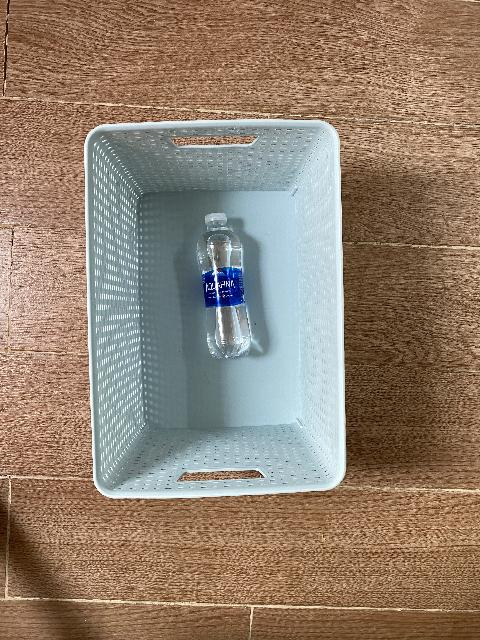aquafina: (197, 213, 252, 360)
cart: (82, 119, 347, 502)
